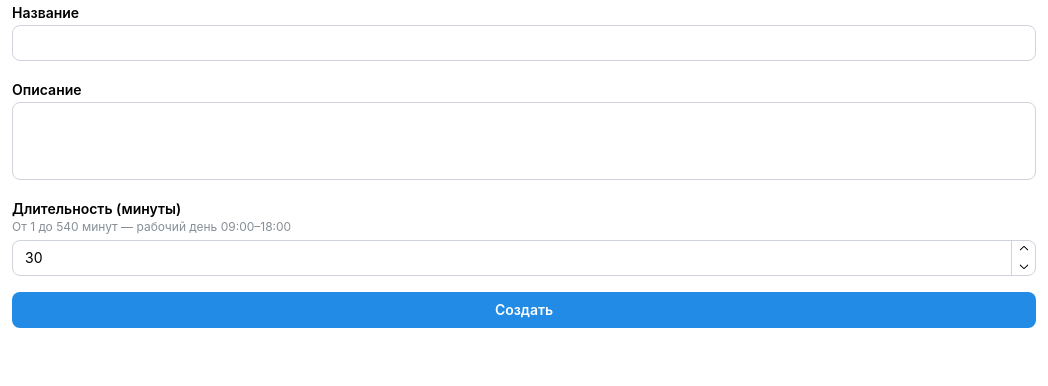
Scenario: CreateEventType › shows an error when the API rejects the request
In the field labelled "Название": (524, 43) [12, 25, 1036, 61], type "Консультация"
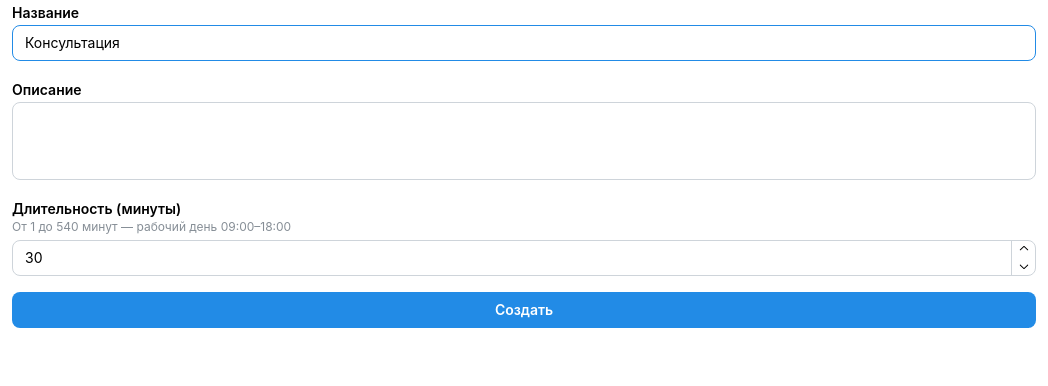
Click the button "Создать": (524, 310) [12, 292, 1036, 328]
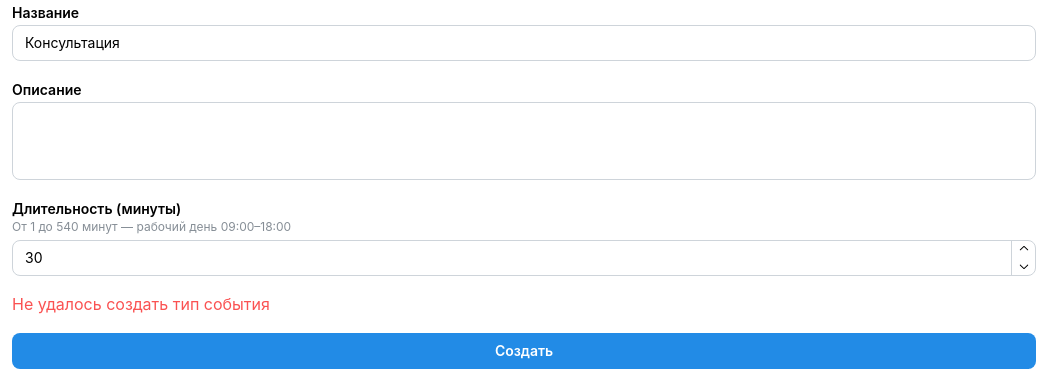
Expected: the text "Не удалось создать тип события" is shown, [12, 294, 270, 314]
